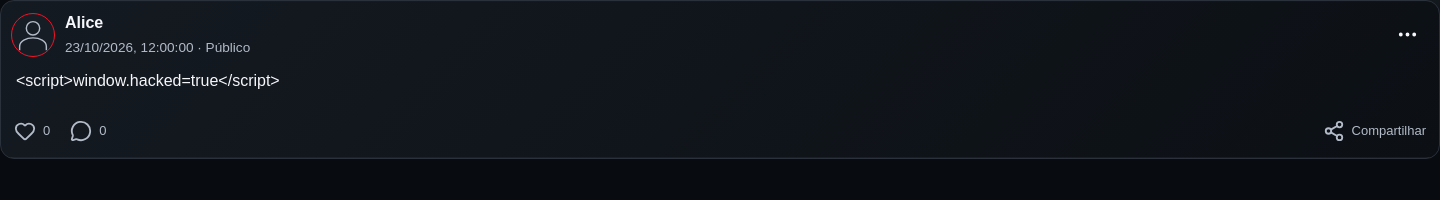
like remains unchanged until backend confirmation and network failure preserves state
Click the 1st button "0" at (32, 131), box [11, 109, 53, 153]
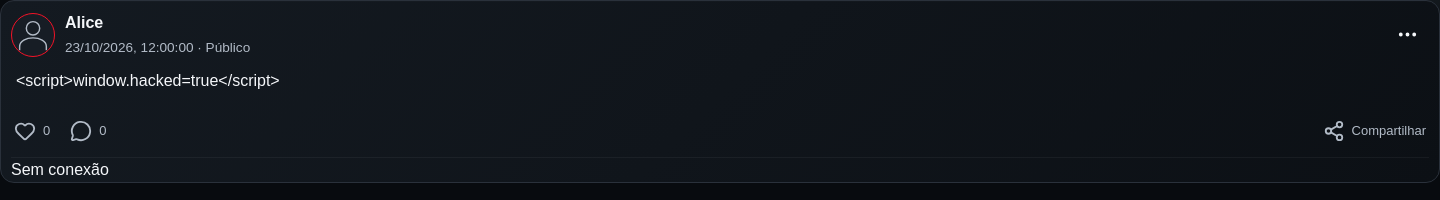
Expected: the message "Sem conexão" is shown, [11, 161, 109, 178]
